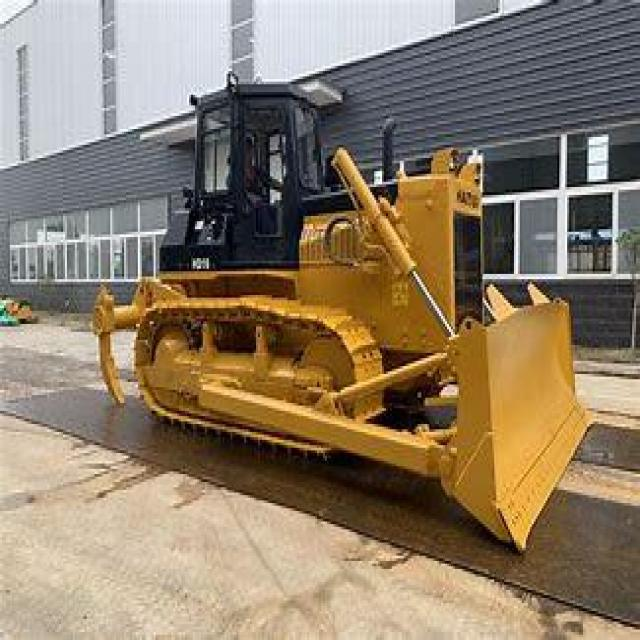Bulldozer: (80, 55, 594, 577)
